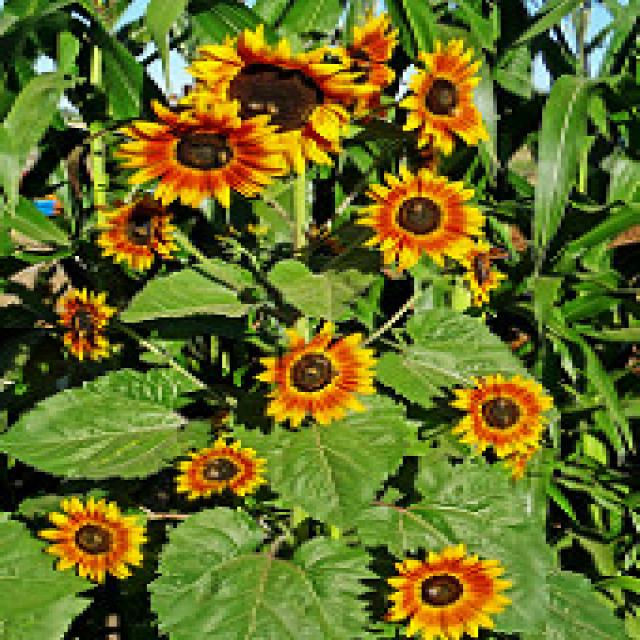sunflower: (180, 36, 358, 156), (124, 96, 279, 206), (350, 164, 488, 272), (264, 315, 376, 425), (374, 547, 504, 640), (398, 41, 496, 150), (42, 498, 147, 585), (456, 375, 558, 456), (96, 203, 186, 268), (178, 443, 265, 498), (49, 286, 113, 357)
